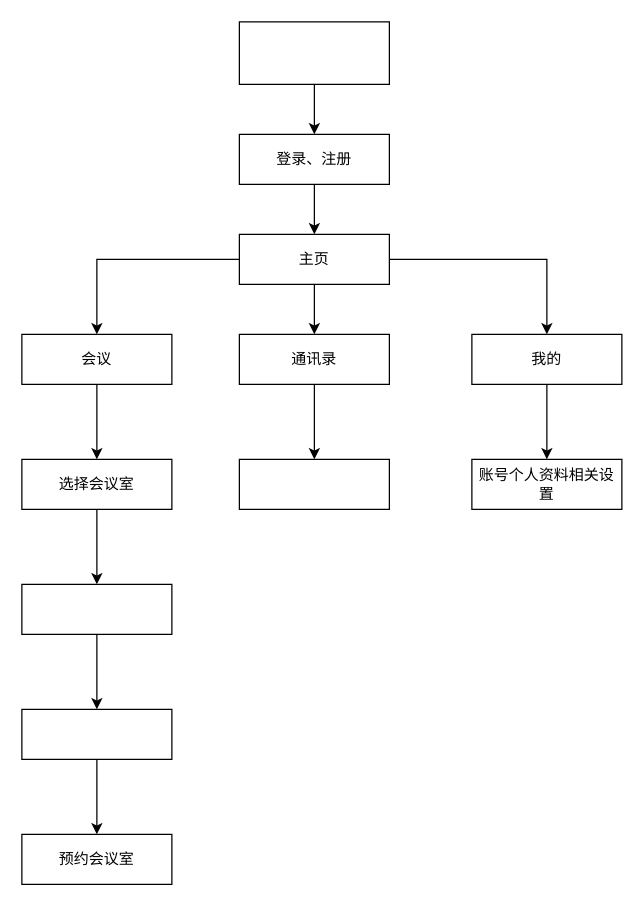
Some shapes in this 644 by 906 pixel diagram are drawn without their labels. The shapes that lost their labels are listed below. From the top down, each one's centre as x and y in pixels, then its label:
At (x=313, y=52): "会议室预约系统".
At (x=313, y=483): "管理联系人".
At (x=96, y=608): "选择会议时间".
At (x=96, y=733): "选择会议人员".
